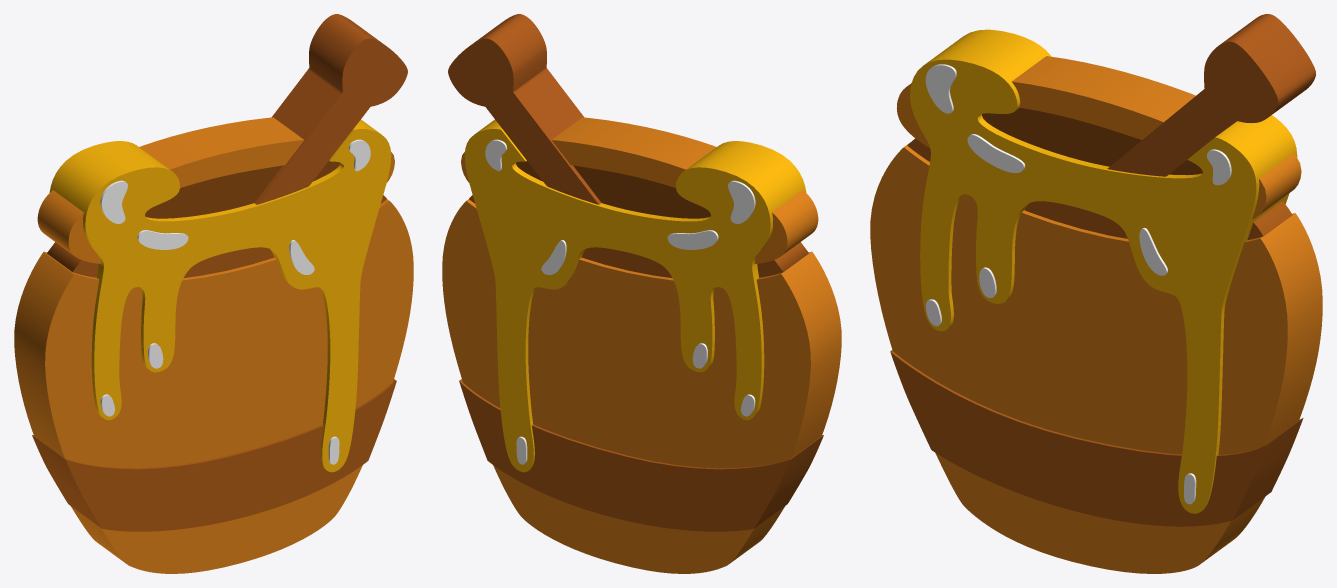
File: honey.glb
The picture shows the model from 3 angles, left to right: view 1: azimuth 30°, elevation 25°; view 2: azimuth 150°, elevation 25°; view 3: azimuth 330°, elevation 25°; orthographic projection. The views are drawn at different scales.
Visible parts, largest first — view 1: Curve; view 2: Curve; view 3: Curve.
Boxes of the visible parts, bbox=[...] form: Curve: bbox=[14, 14, 413, 573]; Curve: bbox=[442, 14, 841, 573]; Curve: bbox=[870, 14, 1322, 573].
Bounding box in the file's own units: 0.7146 × 0.9163 × 0.1297.
